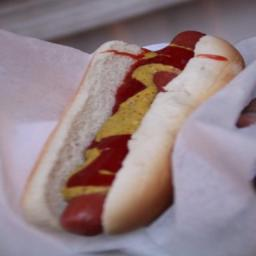hotdog: (54, 192, 116, 243), (171, 30, 202, 56)
